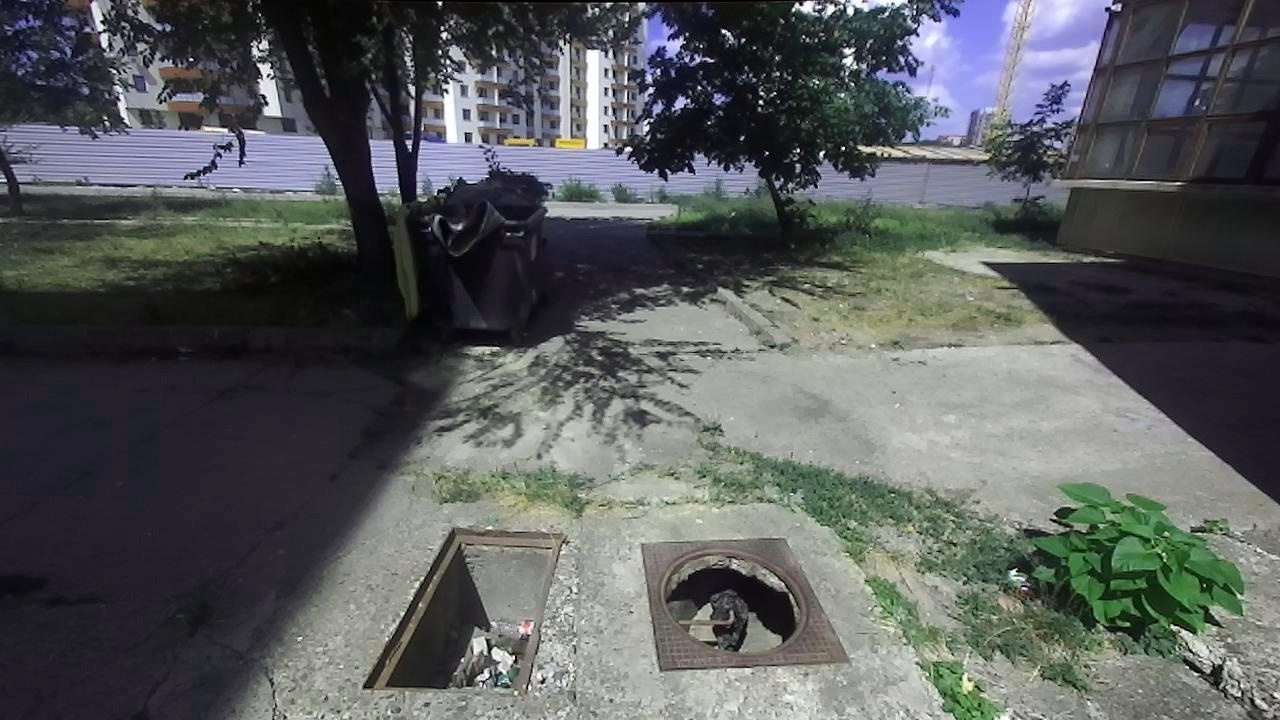drain: (359, 521, 570, 696), (657, 541, 816, 656)
